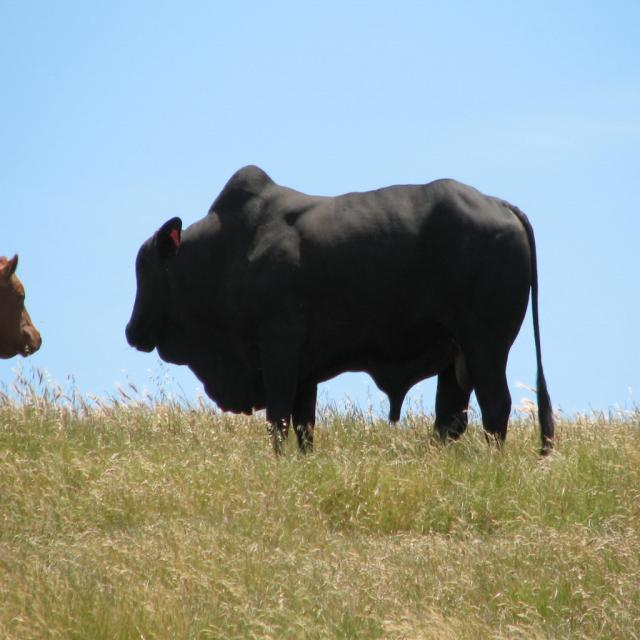Cattle: (124, 164, 560, 464), (0, 253, 42, 360)
